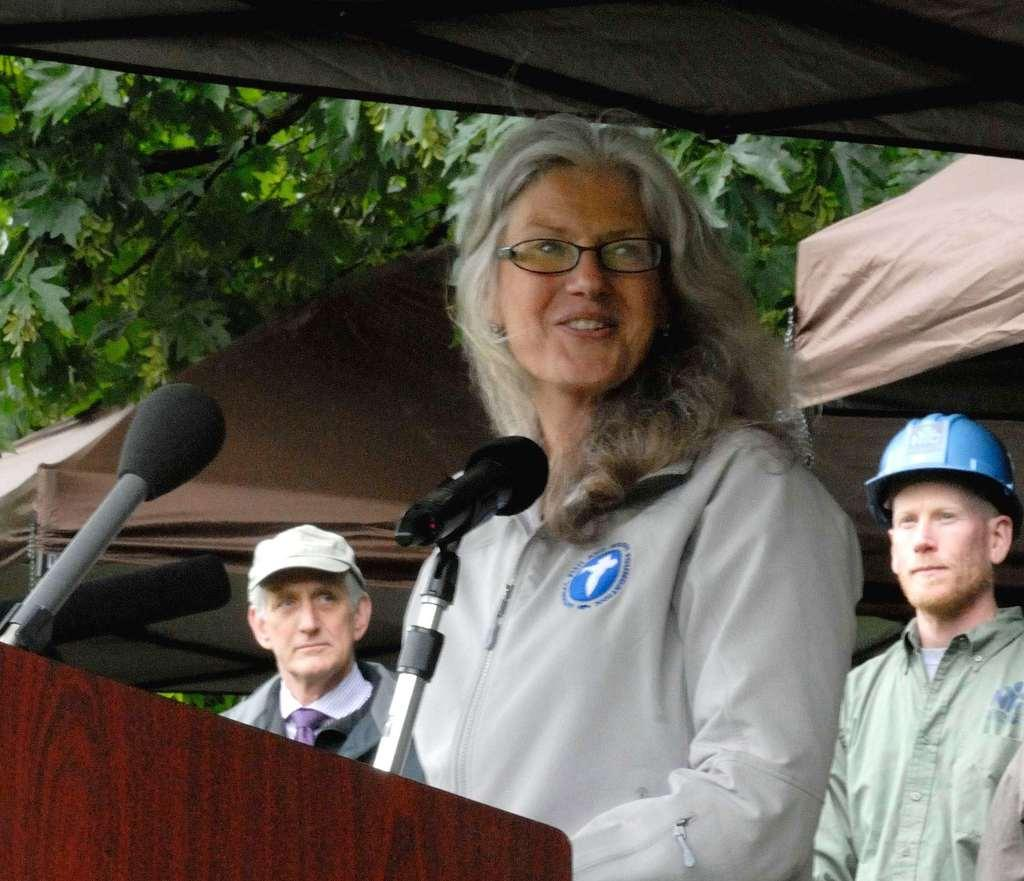Hat: (246, 522, 366, 590)
